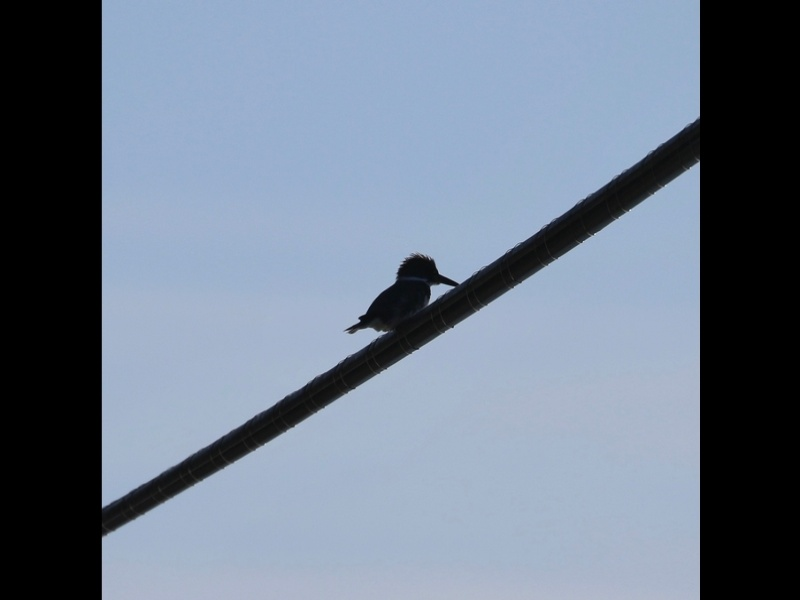kingfisher: (345, 254, 461, 338)
